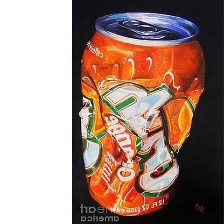can: (76, 9, 207, 219)
